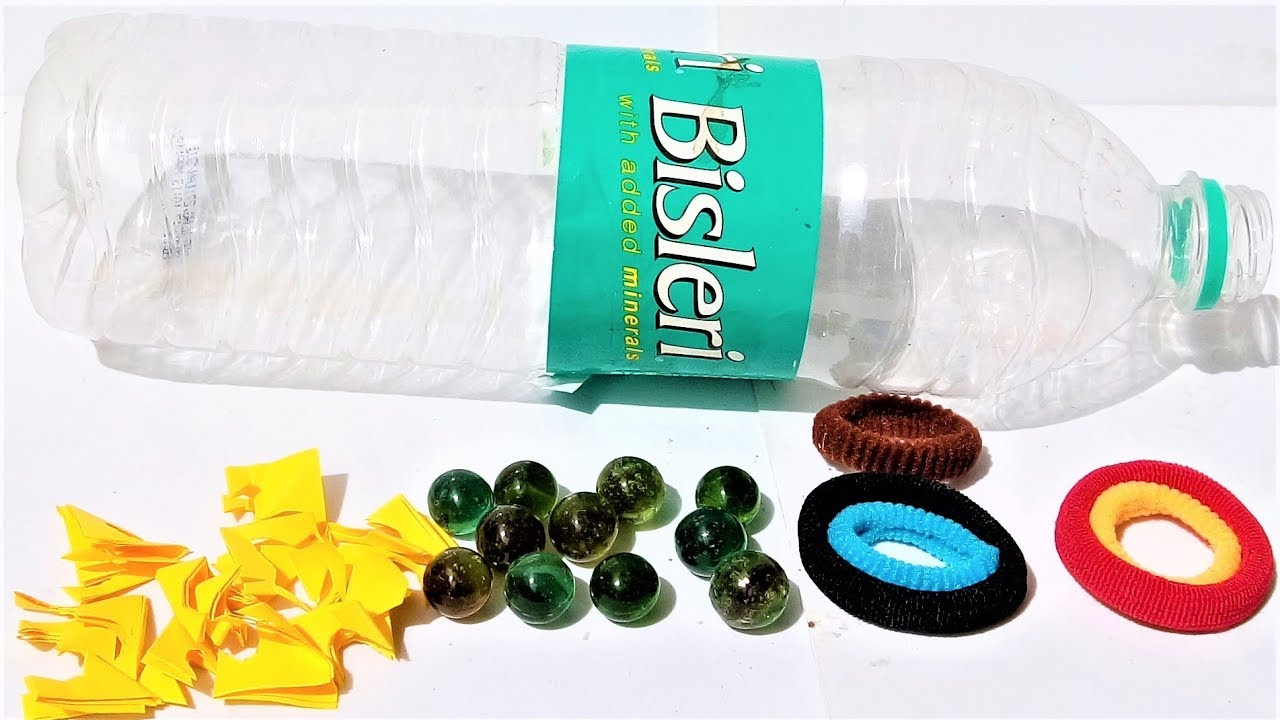plastic_bottle: (13, 2, 1280, 474)
